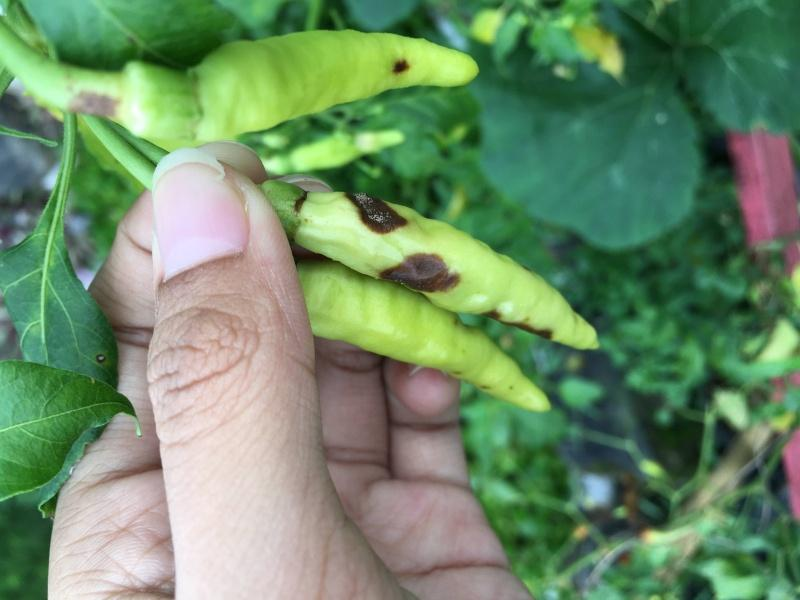antraknosa: (297, 187, 603, 349), (190, 27, 477, 144)
cabai_normal: (292, 261, 555, 413)
